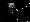person: (8, 5, 17, 15)
